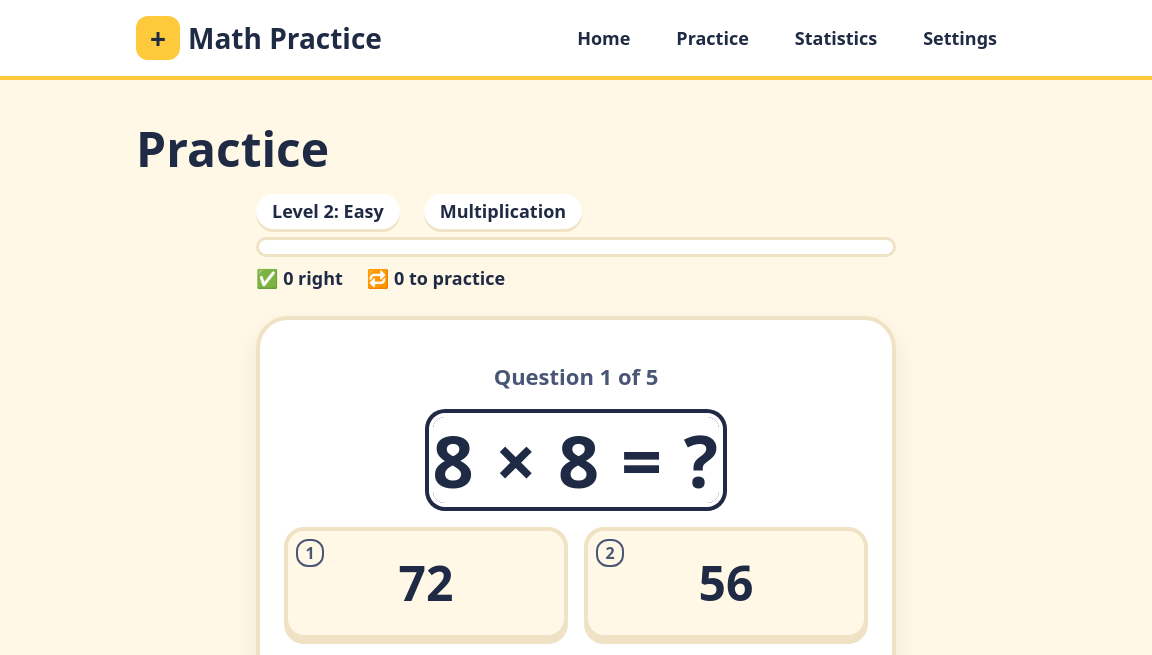
Scenario: leaving an active session › asks first, and "Keep practicing" stays on the same question
The image size is (1152, 655).
Click the button "1 72": x=426, y=583 x1=284 y1=527 x2=568 y2=639
(page scrolled)
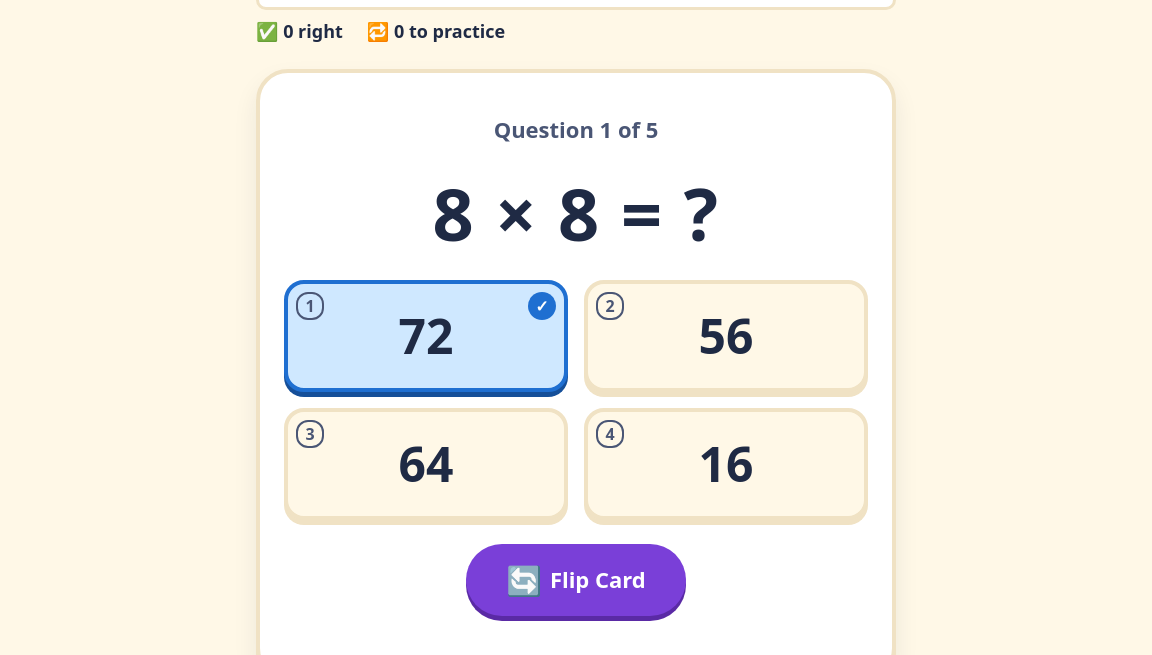
Click the button "🔄 Flip Card": x=576, y=580 x1=466 y1=544 x2=686 y2=616
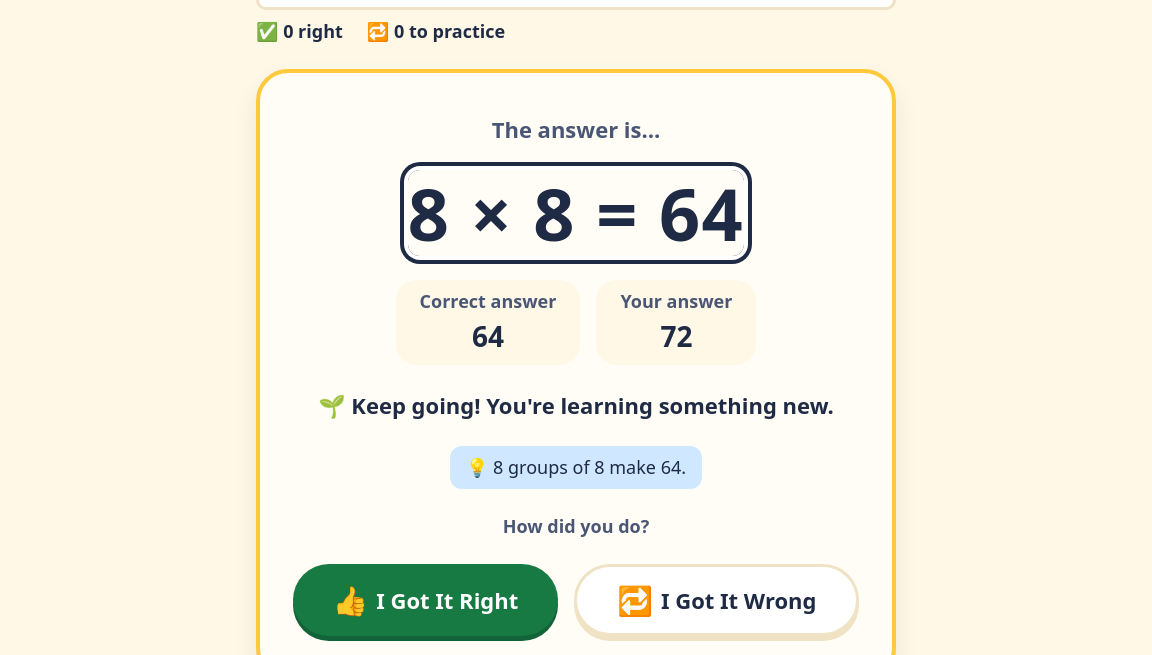
Click the button "👍 I Got It Right": x=425, y=600 x1=292 y1=564 x2=558 y2=636
(page scrolled)
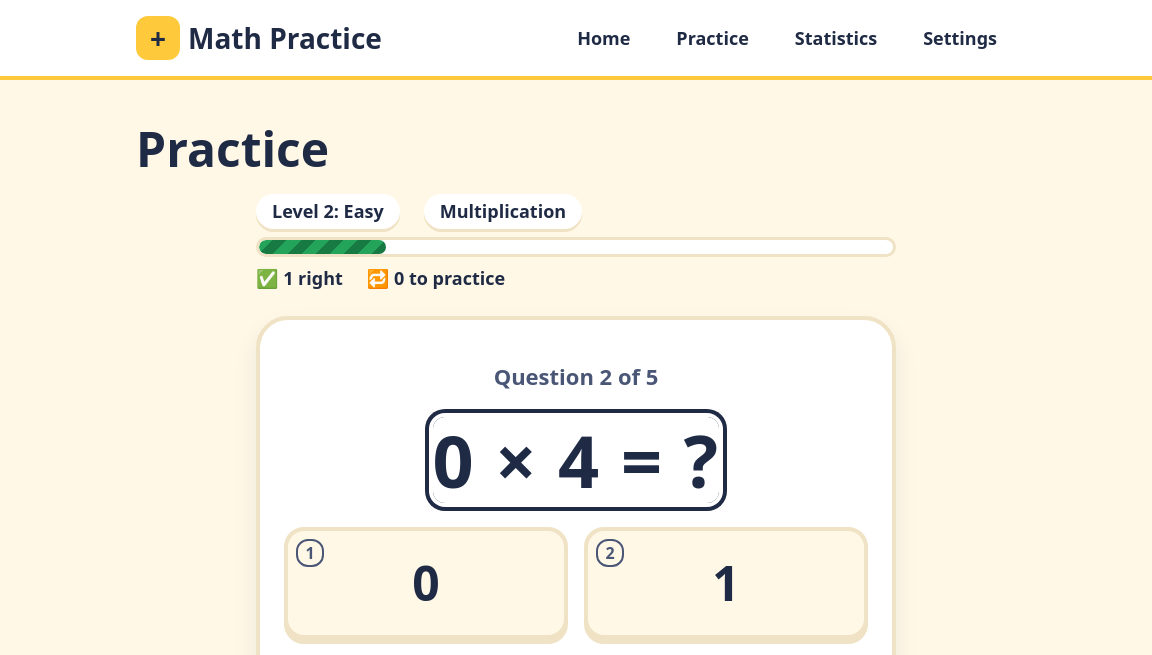
Click the link "Statistics": x=836, y=38 x1=795 y1=26 x2=877 y2=50
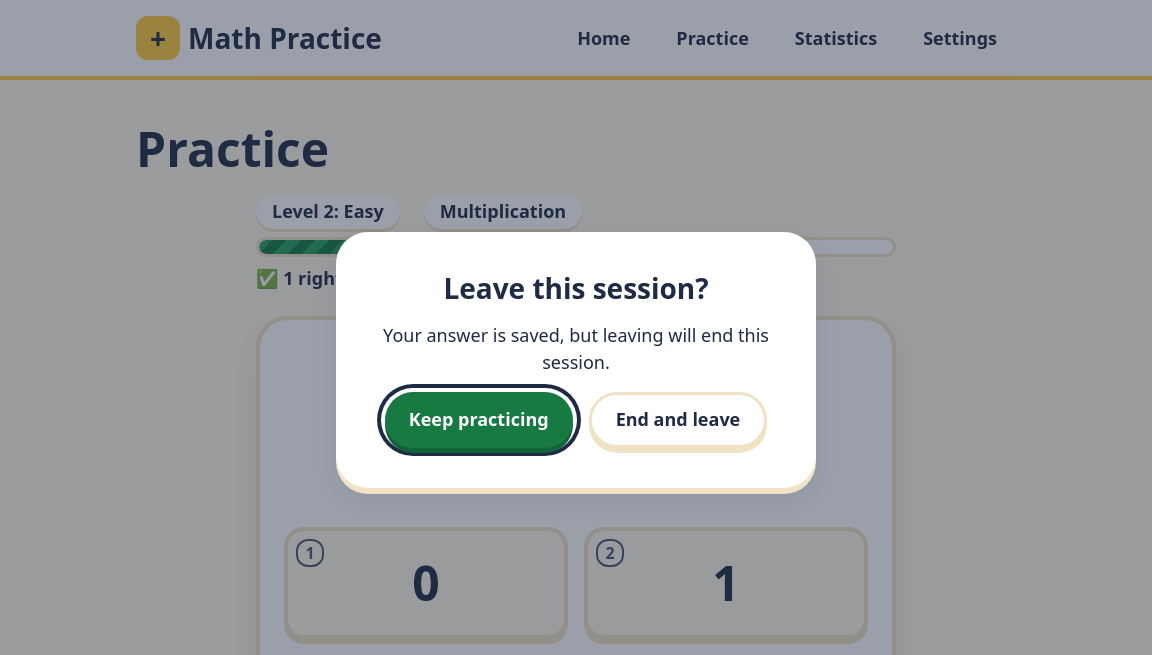
Now the dialog "Leave this session?" shows "Your answer is saved", box x1=383 y1=323 x2=769 y2=374
Click the button "Keep practicing": x=479, y=420 x1=385 y1=392 x2=573 y2=448
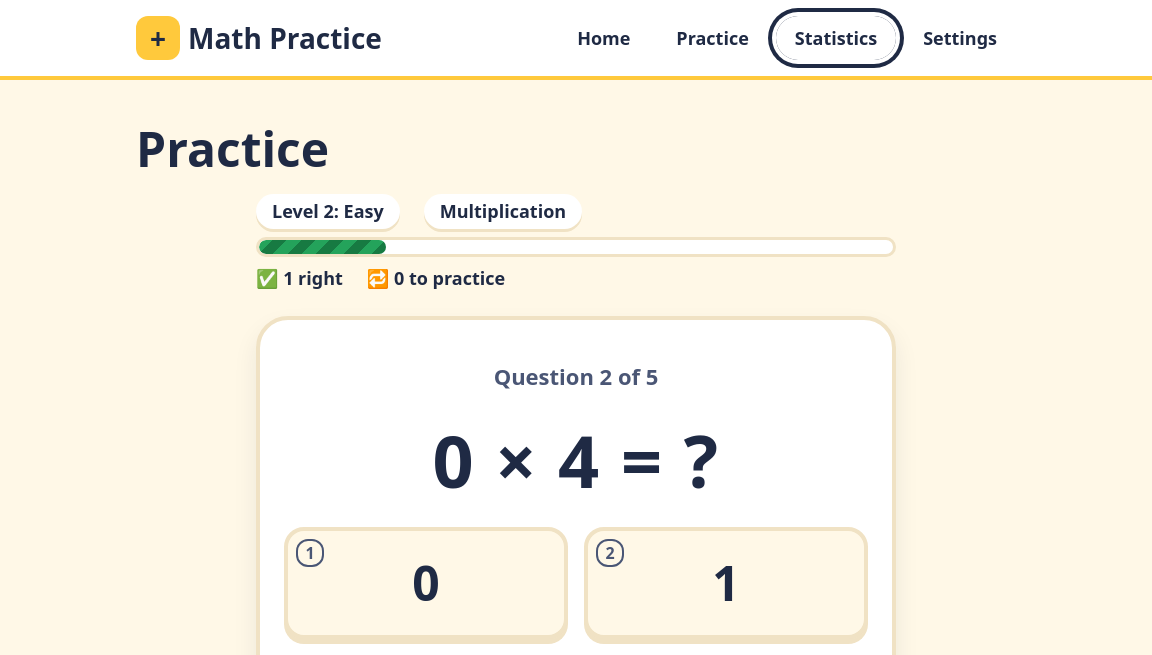
Now the text "Question 2 of 5" is shown, box x1=494 y1=360 x2=658 y2=393
Now the dialog is gone
